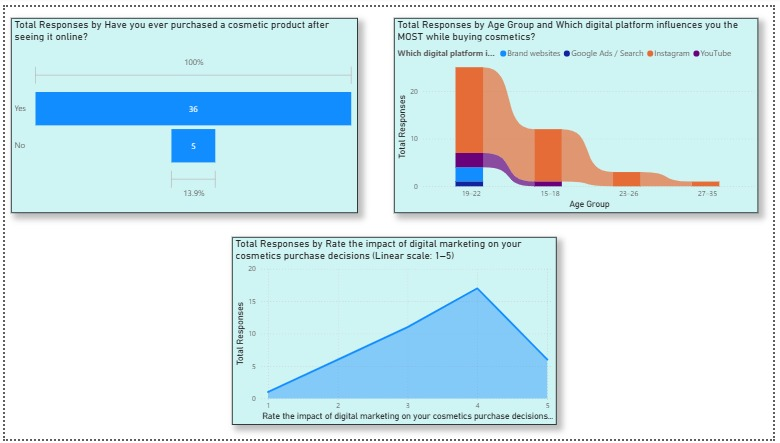

This screenshot's page, from the dashboard's own definition file:
{"tool":"powerbi","page":{"name":"Page 2","canvas":[1280,720],"ordinal":2},"visuals":[{"type":"funnel","fields":{"Category":["Form responses 1.Have you ever purchased a cosmetic product after seeing it online?"],"Y":["Form responses 1.Total Responses"]},"box":[10.2,17.6,578,324.9],"z":0},{"type":"areaChart","fields":{"Category":["Form responses 1.Rate the impact of digital marketing on your cosmetics purchase decisions    (Linear scale: 1–5)  "],"Y":["Form responses 1.Total Responses"]},"box":[377.6,383.4,541.5,313.2],"z":1000},{"type":"ribbonChart","fields":{"Category":["Form responses 1.Age Group "],"Series":["Form responses 1.Which digital platform influences you the MOST while buying cosmetics?  "],"Y":["Form responses 1.Total Responses"]},"box":[648.3,17.6,607.3,324.9],"z":2000}]}

Visuals, with their boxes in screenshot pixels (x1, y1, x2, y2), scaled from the page's 1280x720 canvas onto the 780x443 screenshot:
funnel - Form responses 1.Have you ever purchased a cosmetic product after seeing it online? x Form responses 1.Total Responses: bbox=[6, 11, 358, 211]
areaChart - Form responses 1.Rate the impact of digital marketing on your cosmetics purchase decisions    (Linear scale: 1–5)   x Form responses 1.Total Responses: bbox=[230, 236, 560, 429]
ribbonChart - Form responses 1.Age Group  x Form responses 1.Which digital platform influences you the MOST while buying cosmetics?  : bbox=[395, 11, 765, 211]
